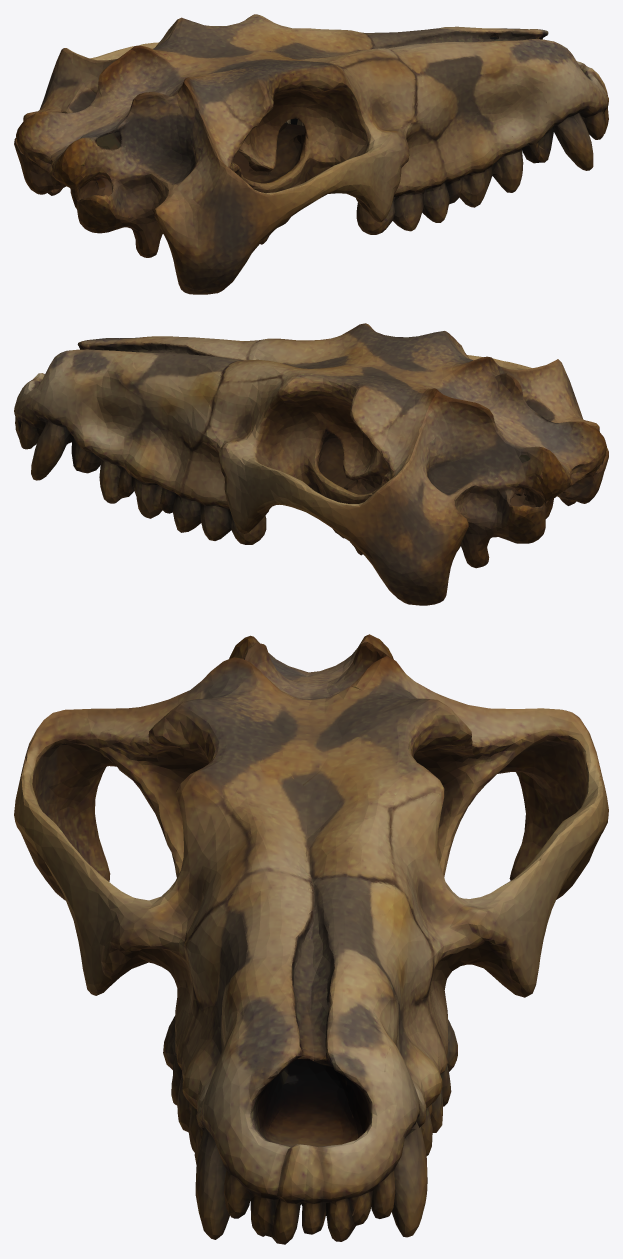
The picture shows the model from 3 angles, top to bottom: view 1: azimuth 30°, elevation 25°; view 2: azimuth 150°, elevation 25°; view 3: azimuth 270°, elevation 25°; orthographic projection. The views are drawn at different scales.
Parts seen in each view (by area): view 1: world; view 2: world; view 3: world.
Boxes of the visible parts, bbox=[...] form: world: bbox=[14, 14, 608, 294]; world: bbox=[14, 323, 608, 605]; world: bbox=[14, 634, 608, 1244].
Size of the model in its own units: 1 by 0.3231 by 0.5879.
Materials: 1 (1 with a texture image).
